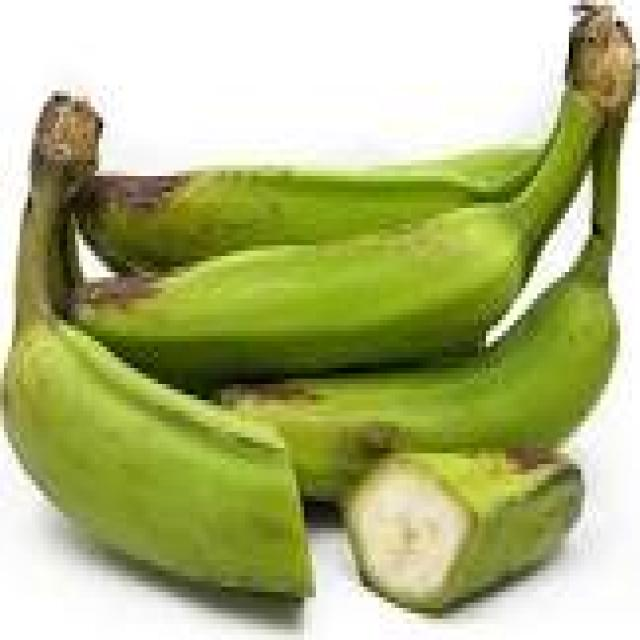banana: (72, 6, 636, 389), (4, 96, 312, 597), (222, 123, 624, 501), (72, 150, 541, 271), (344, 454, 584, 613)
